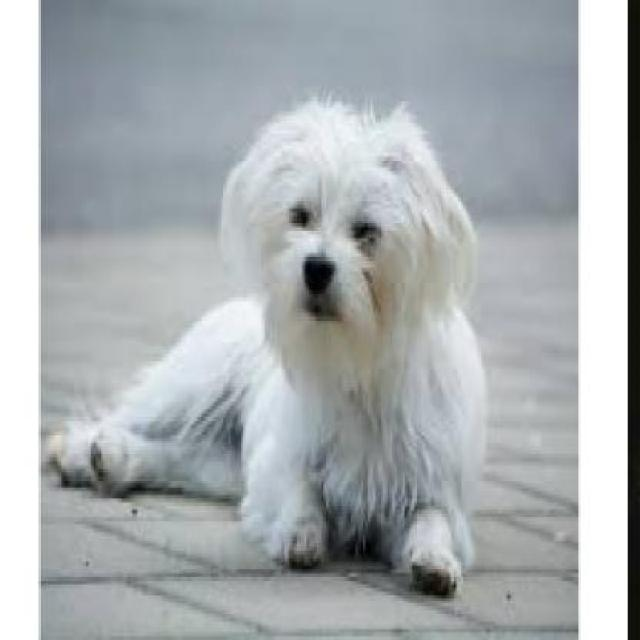Dog: (46, 89, 489, 603)
